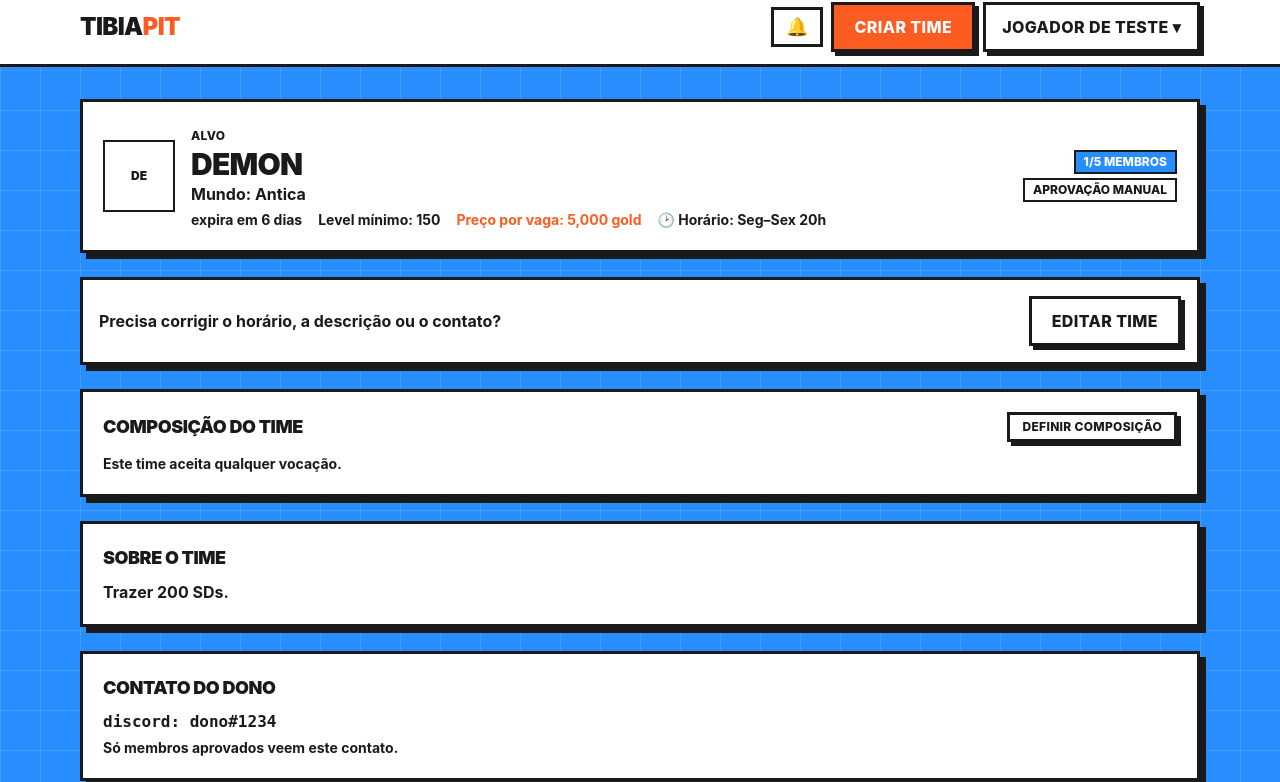
Test case: TeamDetailPage — editar o time › o formulario nasce com os valores atuais do time
The width and height of the screenshot is (1280, 782).
Click the button "Editar time": (1105,321) [1029, 296, 1181, 346]
(page scrolled)
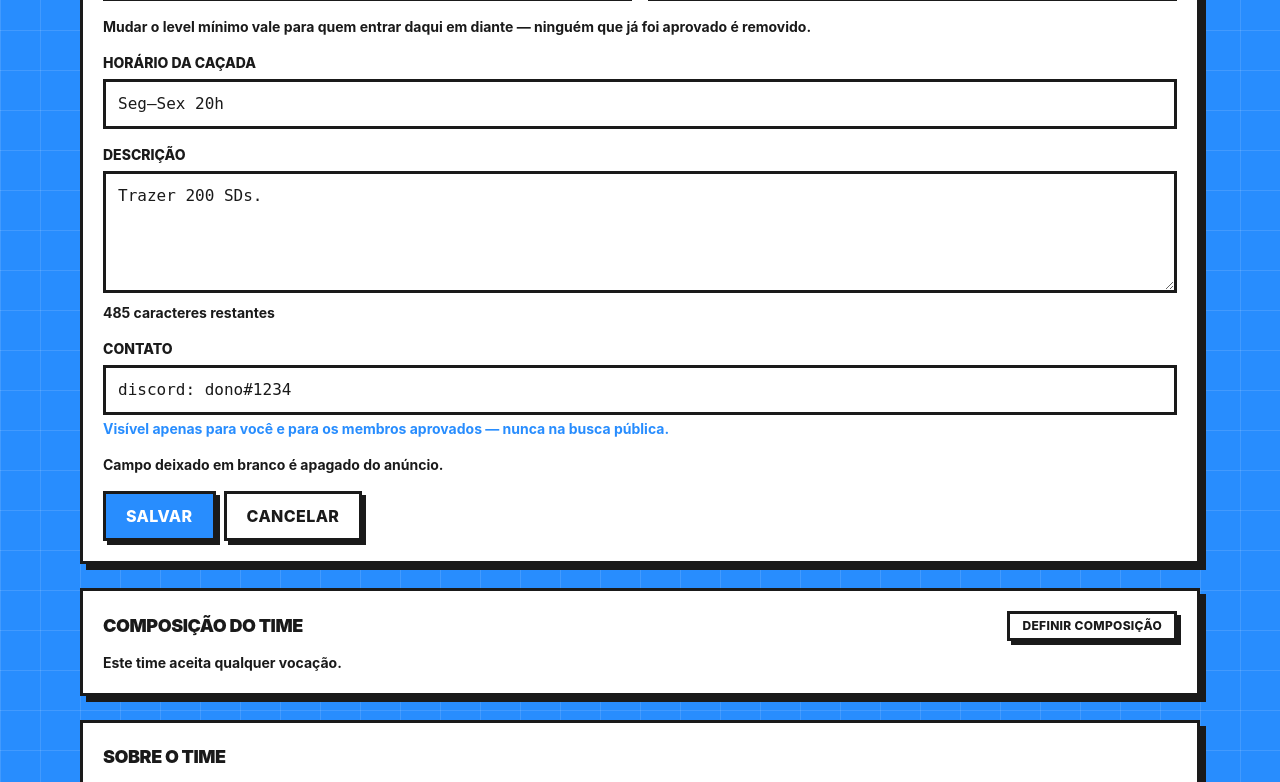
Expected: the field labelled "Horário da caçada" holds "Seg–Sex 20h", [103, 79, 1177, 129]
Expected: the text box labelled "Descrição" holds "Trazer 200 SDs.", [103, 171, 1177, 293]
Expected: the field labelled "Contato" holds "discord: dono#1234", [103, 365, 1177, 415]
